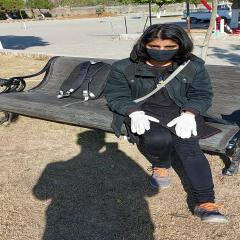gloved: (170, 112, 198, 138), (129, 112, 159, 134)
